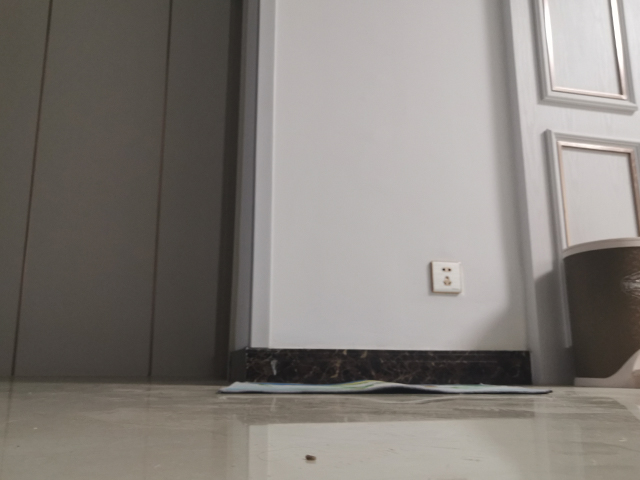carpet: (217, 379, 556, 397)
trashcan: (560, 237, 640, 389)
